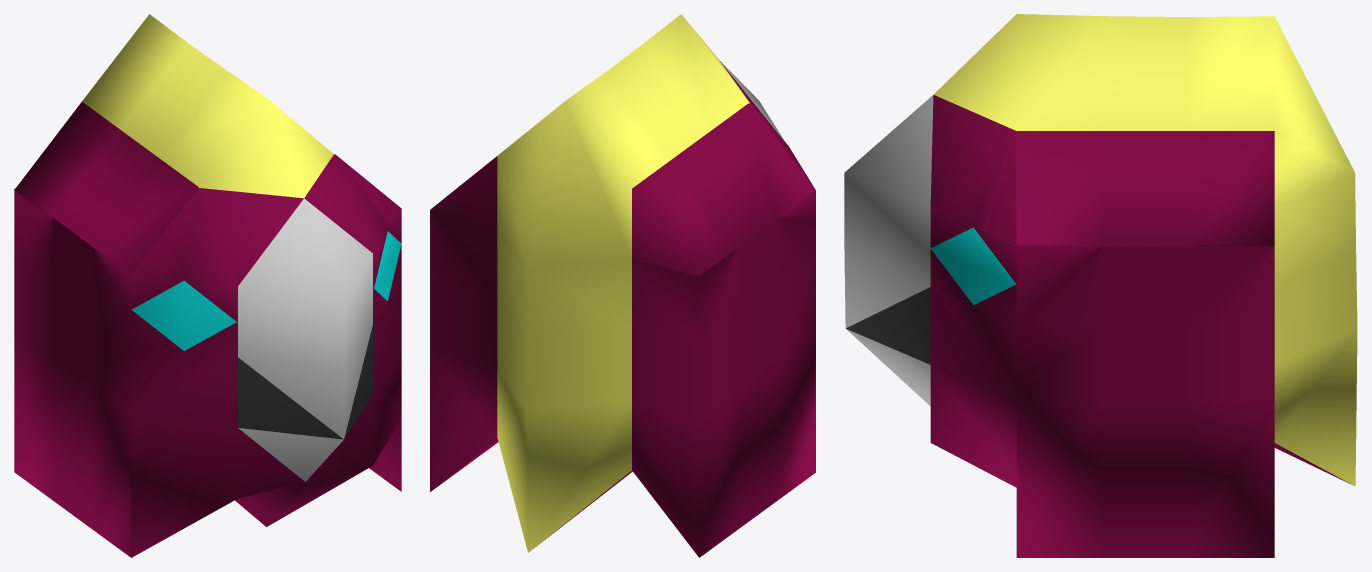
The model's file is parrot.fbx.
The picture shows the model from 3 angles, left to right: view 1: azimuth 30°, elevation 25°; view 2: azimuth 150°, elevation 25°; view 3: azimuth 270°, elevation 25°; orthographic projection. The views are drawn at different scales.
Visible parts, largest first — view 1: Cube; view 2: Cube; view 3: Cube.
Boxes of the visible parts, x1,y1,x2,y2 form: Cube: [14, 14, 401, 557]; Cube: [430, 14, 815, 557]; Cube: [844, 14, 1357, 557].
Bounding box in the file's own units: 1 × 1.52 × 1.49.
